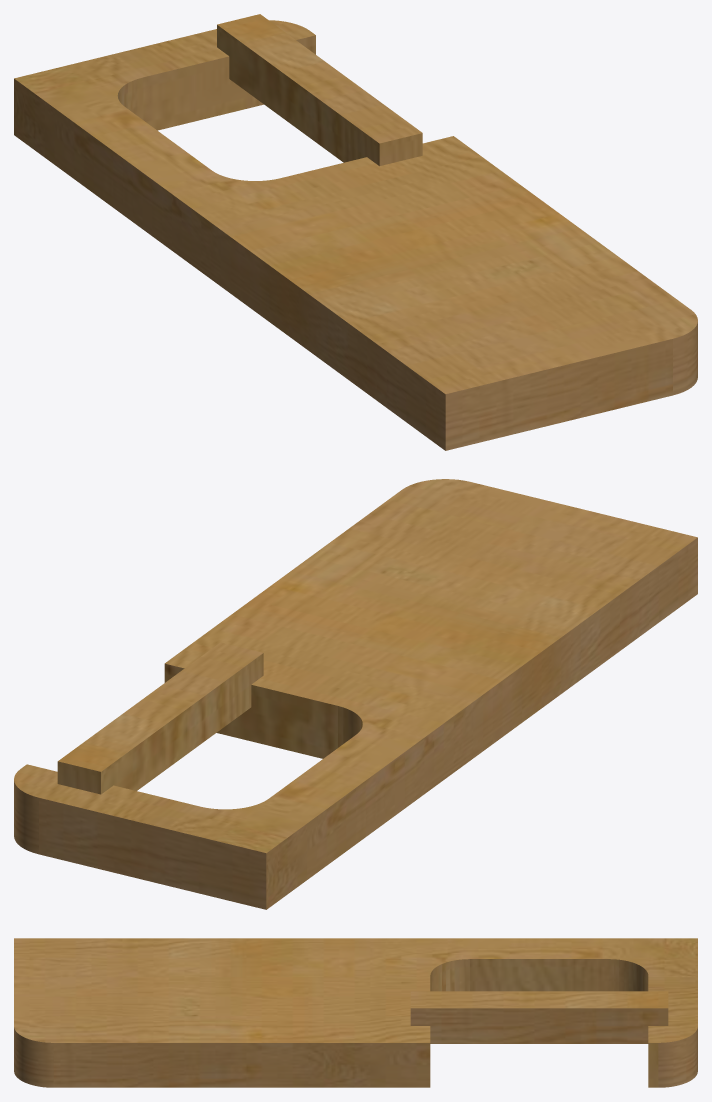
Rendered from porta-rollo-bano.glb.
3 renders of one model, top to bottom at view 1: azimuth 30°, elevation 25°; view 2: azimuth 150°, elevation 25°; view 3: azimuth 270°, elevation 25°, orthographic. The views are drawn at different scales.
Bounding box in the file's own units: 0.125 × 0.035 × 0.345.
Materials: 2 (2 with a texture image).
